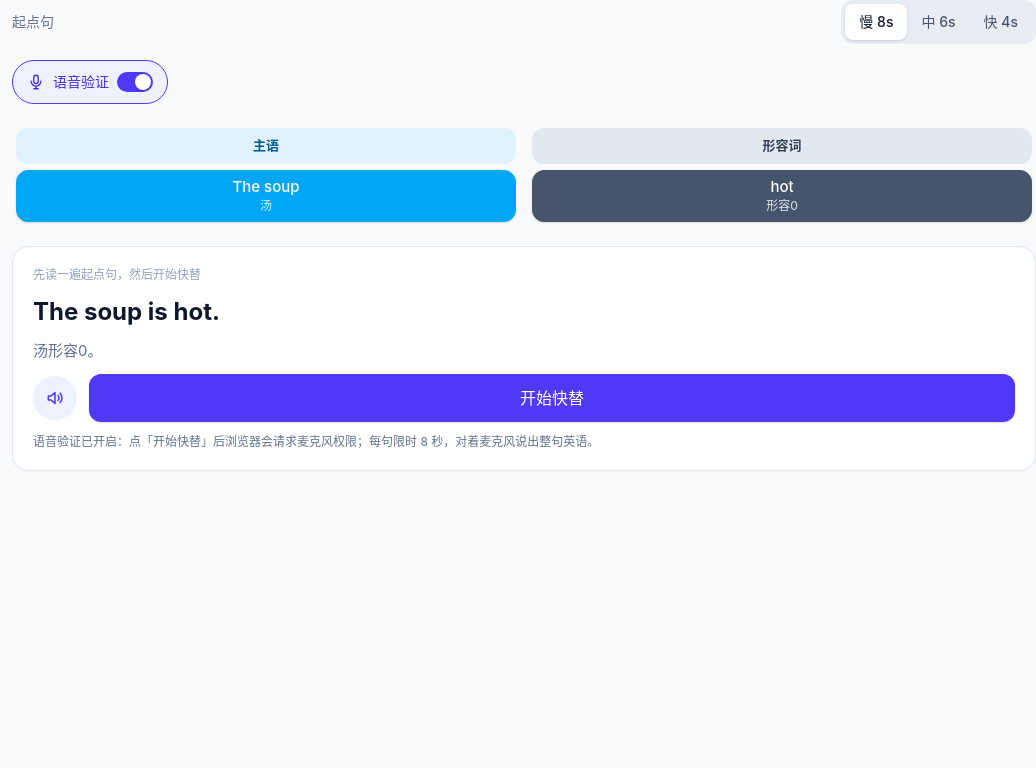
it: SingleSwapDrill voice mode › time runs out: ✗ 超时, answer, diff of what was heard; waits for 下一句
Click the button "开始快替": click(552, 398) x1=89 y1=374 x2=1015 y2=422
Wait 13200 ms
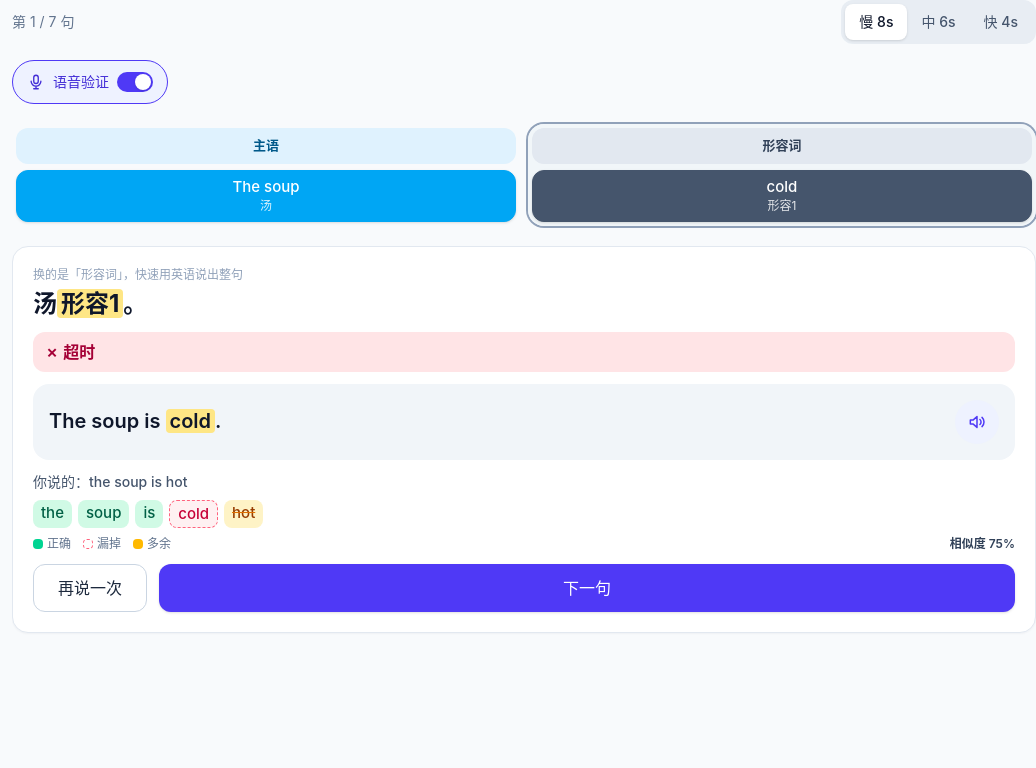
Check: the message with test id "swap-result" reads "✗ 超时", box x1=33 y1=332 x2=1015 y2=372
Check: the element with test id "swap-en" reads "The soup is cold.", box x1=49 y1=409 x2=222 y2=433
Check: the text "第 1 / 7 句" is shown, box x1=12 y1=12 x2=74 y2=32
Click the button "下一句": click(587, 588) x1=159 y1=564 x2=1015 y2=612
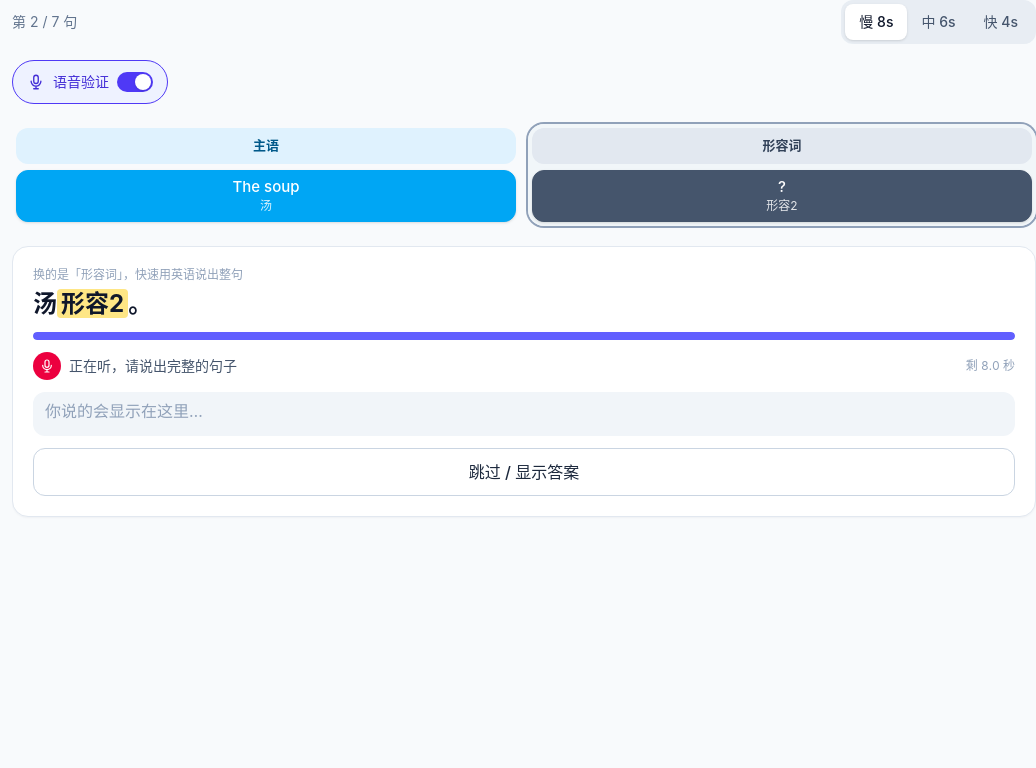
Check: the text "第 2 / 7 句" is shown, box x1=12 y1=12 x2=77 y2=32
